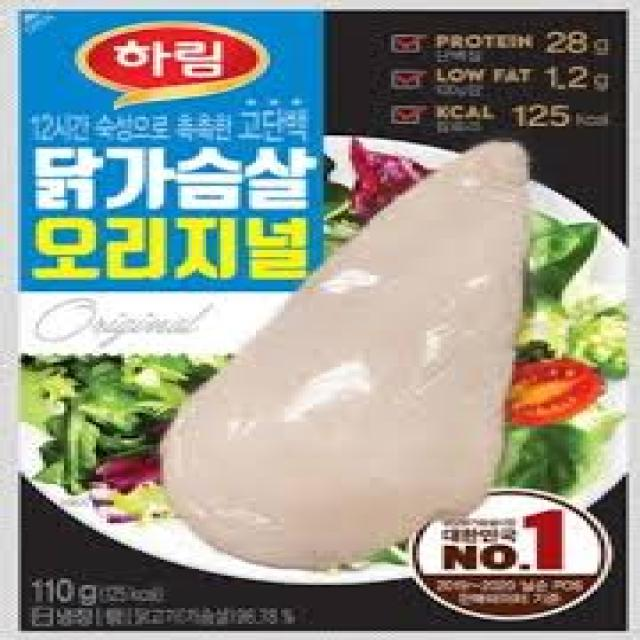chicken: (162, 135, 542, 585)
